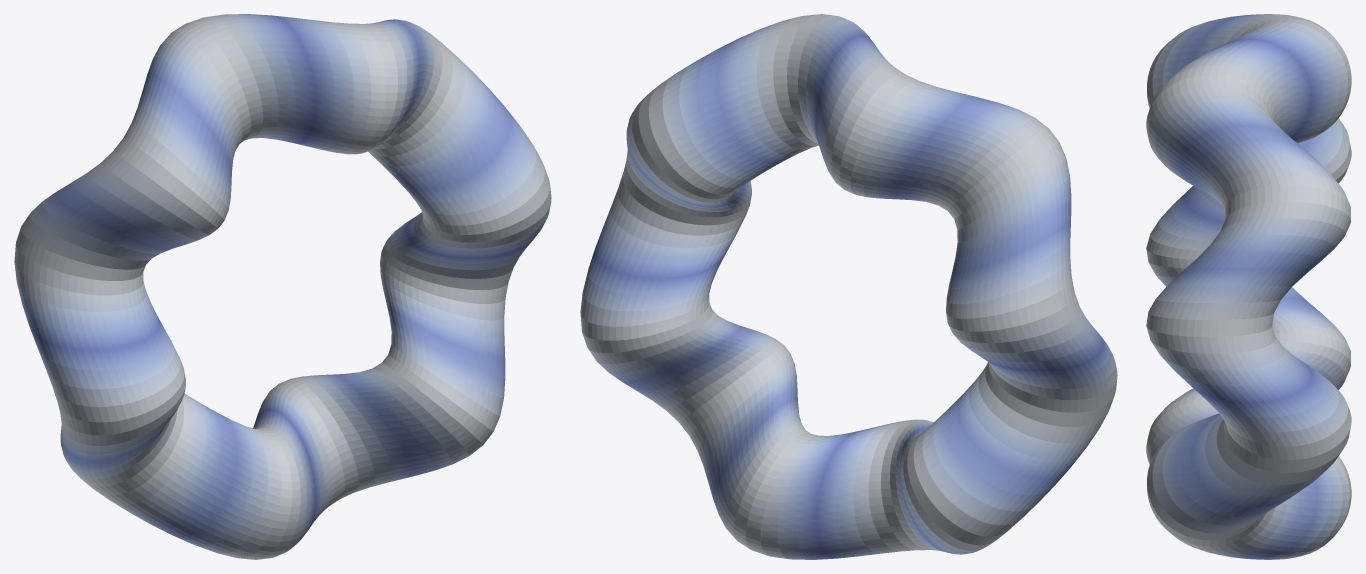
File: step_9.glb
3 renders of one model, left to right at view 1: azimuth 30°, elevation 25°; view 2: azimuth 150°, elevation 25°; view 3: azimuth 270°, elevation 25°, orthographic. The views are drawn at different scales.
Parts seen in each view (by area): view 1: world; view 2: world; view 3: world.
Boxes of the visible parts, box(x1,y1,x2,y2) form: world: box(14, 14, 551, 559); world: box(580, 14, 1117, 559); world: box(1146, 14, 1351, 559).
Bounding box in the file's own units: 26 × 26 × 9.77.
